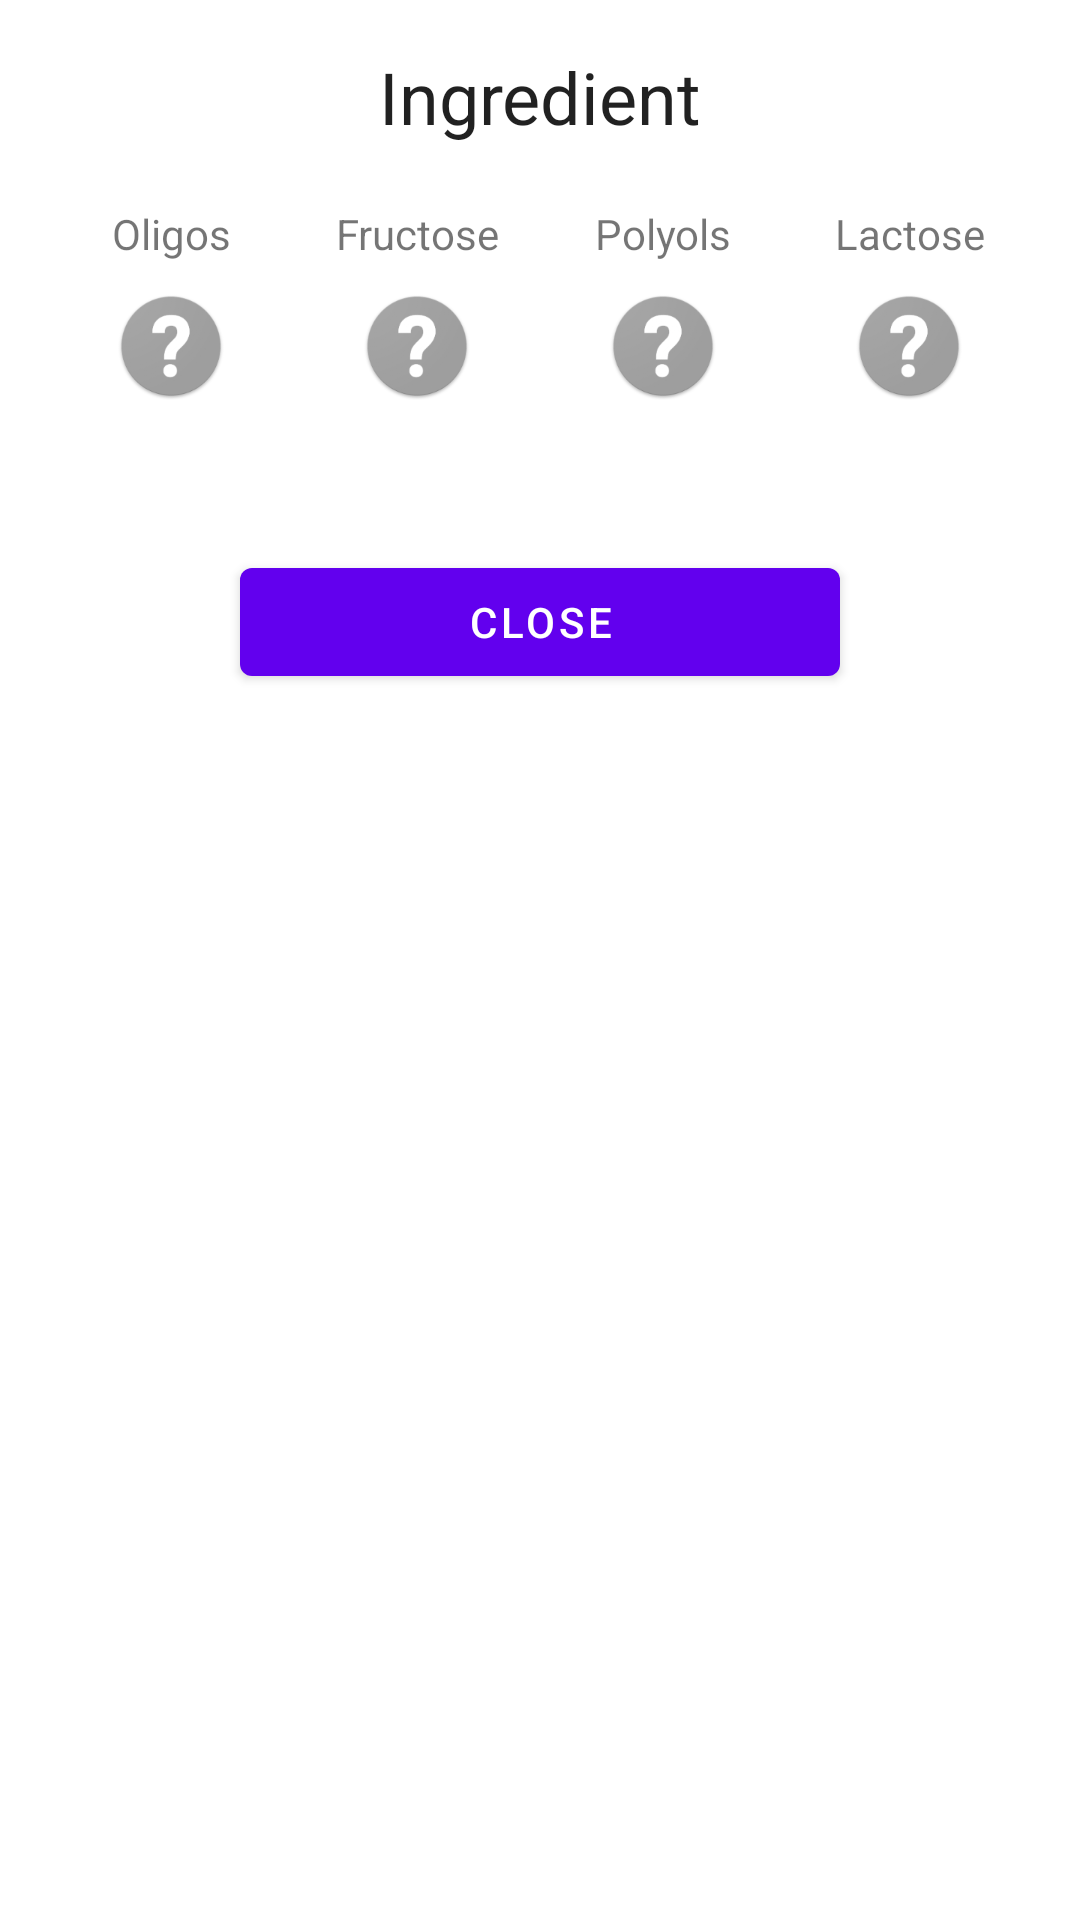

Screen size 1080px x 1920px. Icon name, then its box in pixels as (x1, y1, x2, y2):
unknown: (121, 296, 221, 398), (367, 296, 467, 398), (613, 296, 713, 398), (859, 296, 959, 398)
